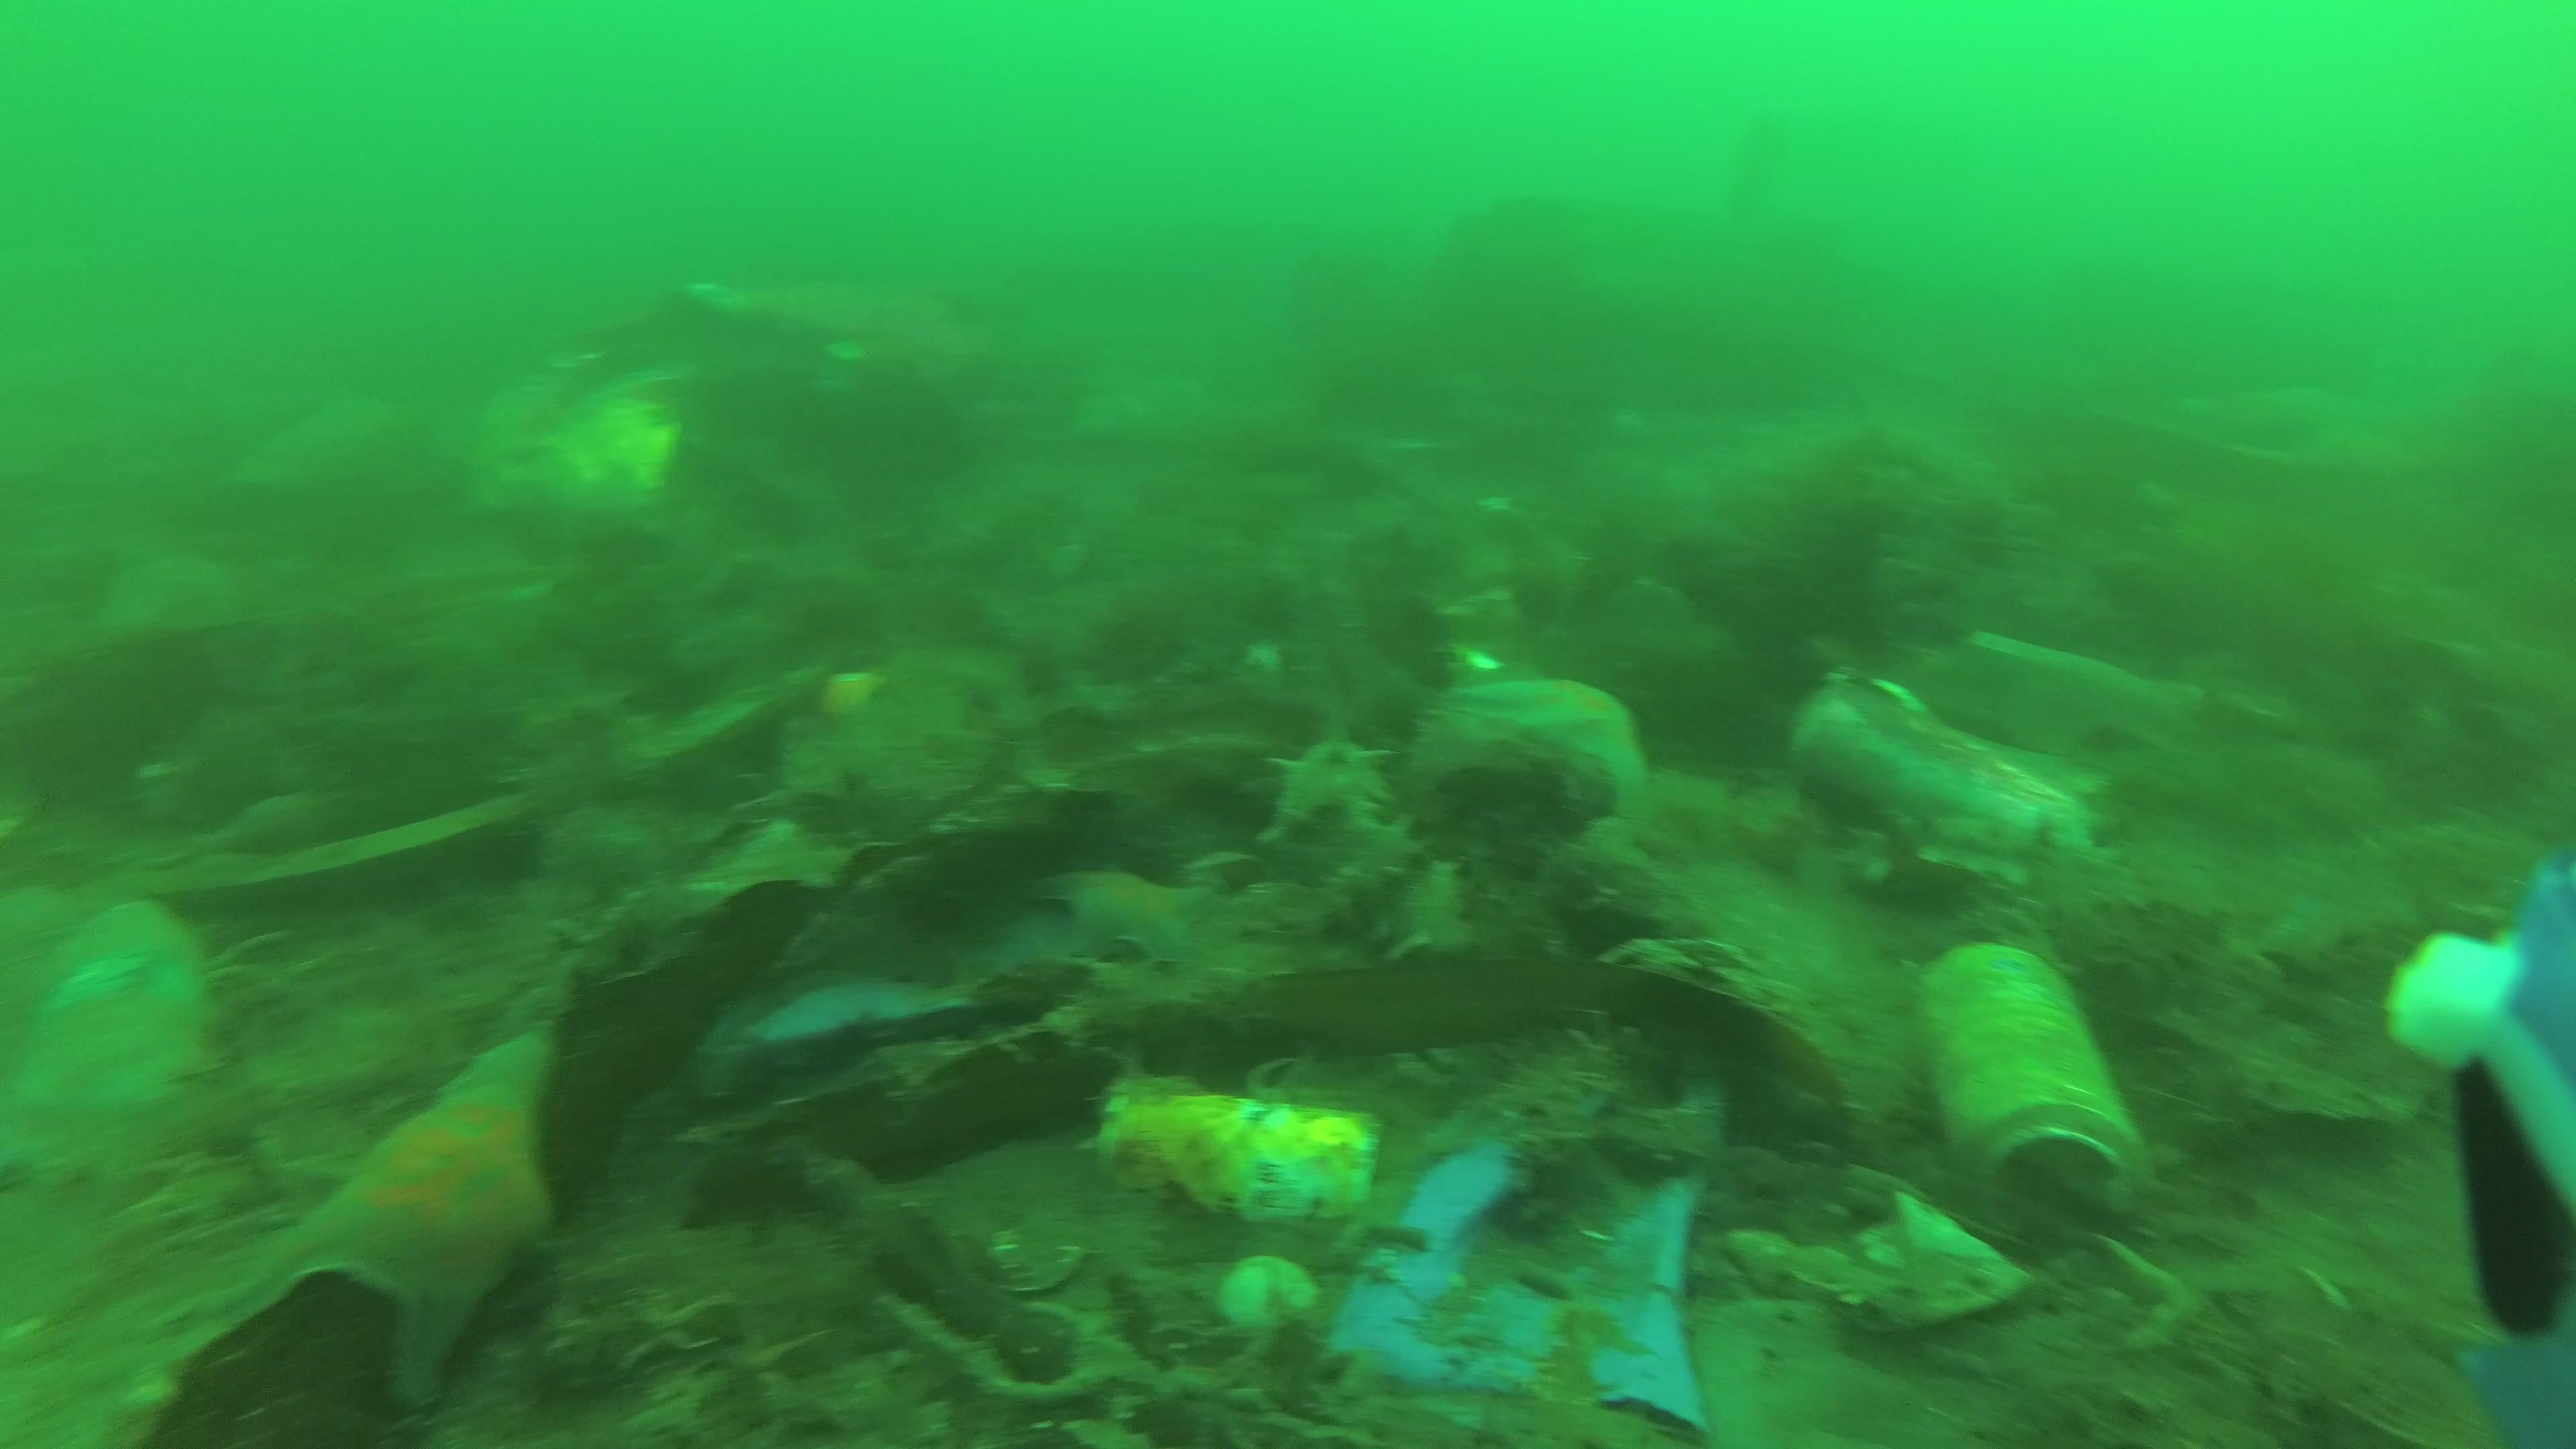holothurian: (1260, 741, 1476, 964), (1840, 824, 2043, 916)
starfish: (166, 1026, 561, 1410), (1417, 683, 1644, 824), (1016, 863, 1210, 966), (619, 1292, 731, 1368)
